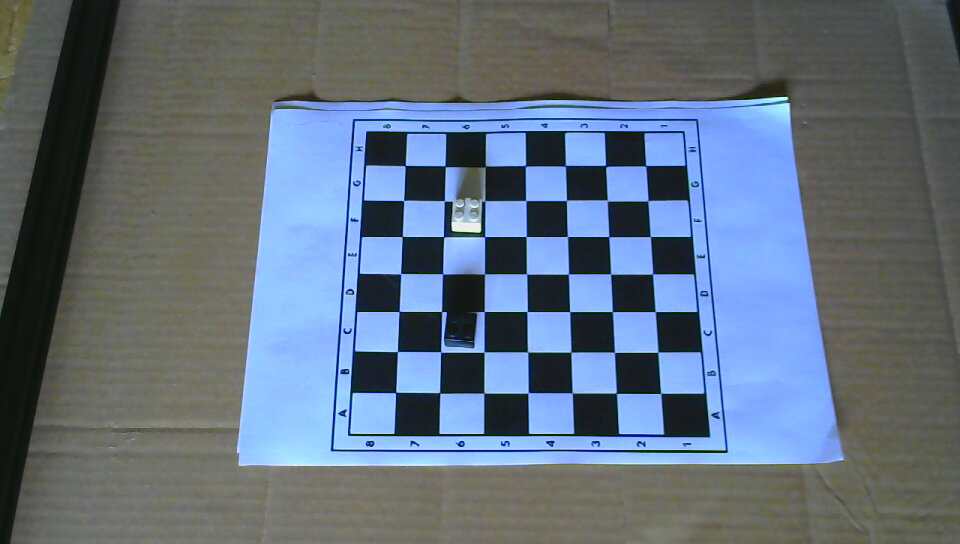bp: (444, 308, 478, 350)
wp: (449, 194, 484, 236)
